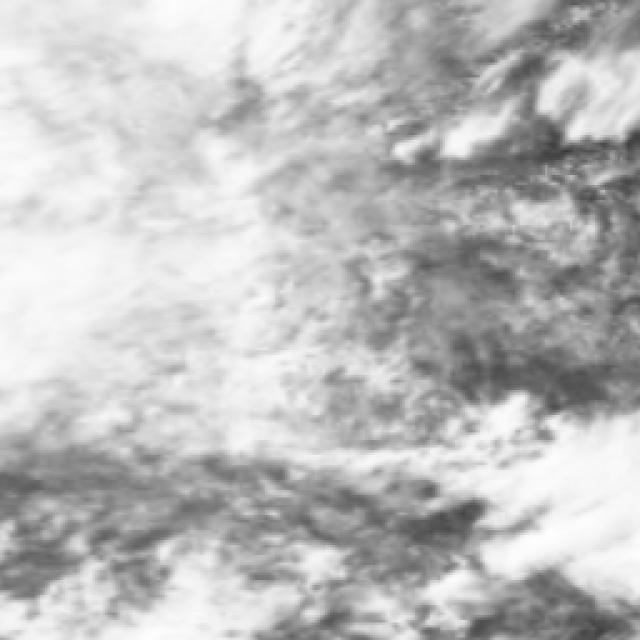CB: (0, 0, 220, 415)
